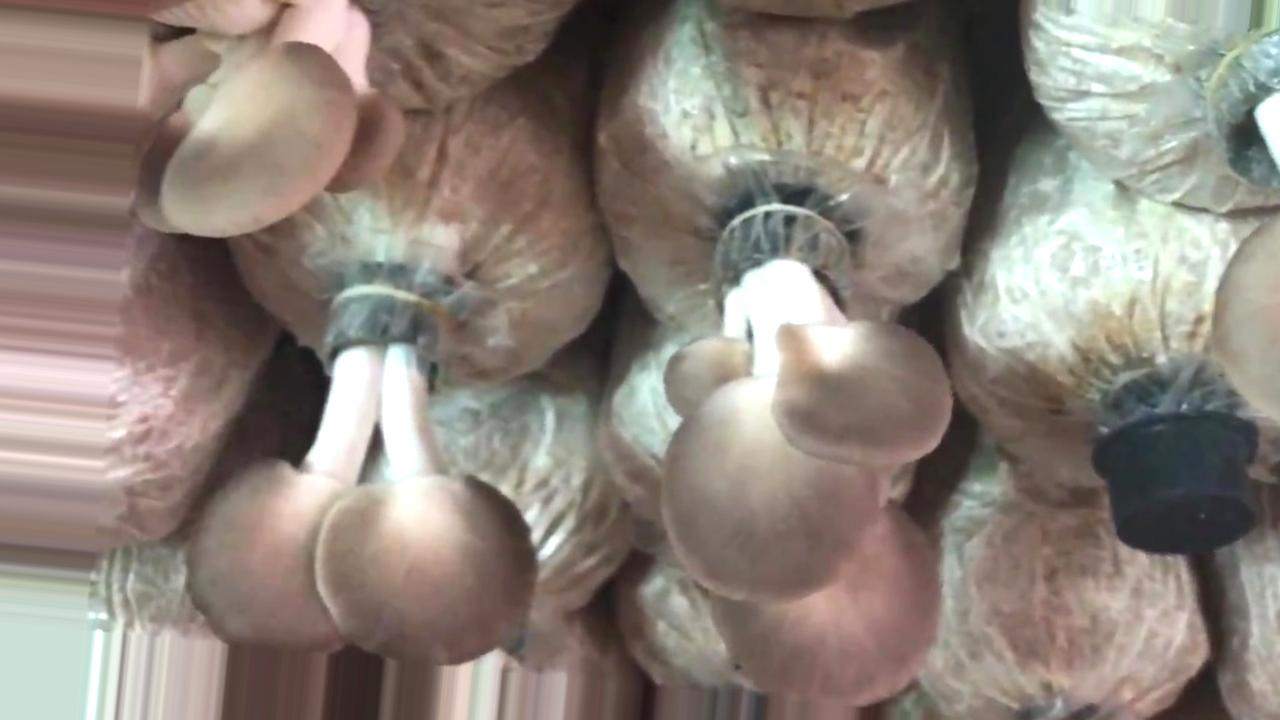nam: (660, 212, 952, 709), (190, 277, 535, 667), (135, 1, 407, 241)
